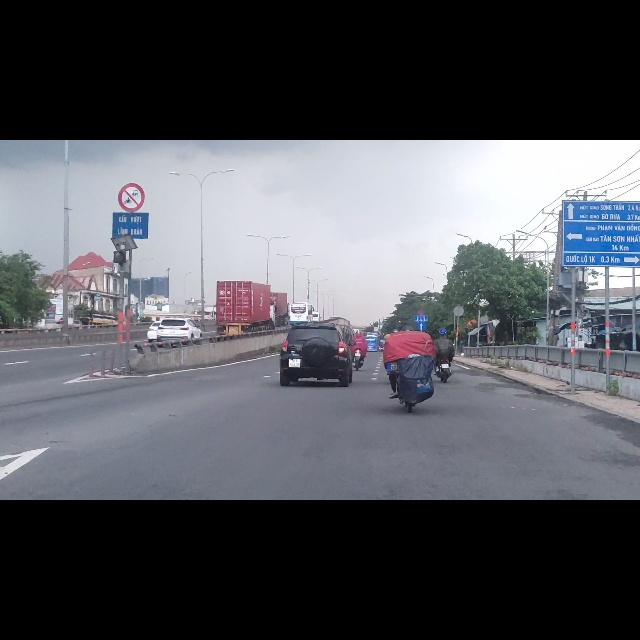bien_nguy_hiem: (118, 77, 145, 128), (418, 325, 426, 340), (59, 316, 63, 324)
